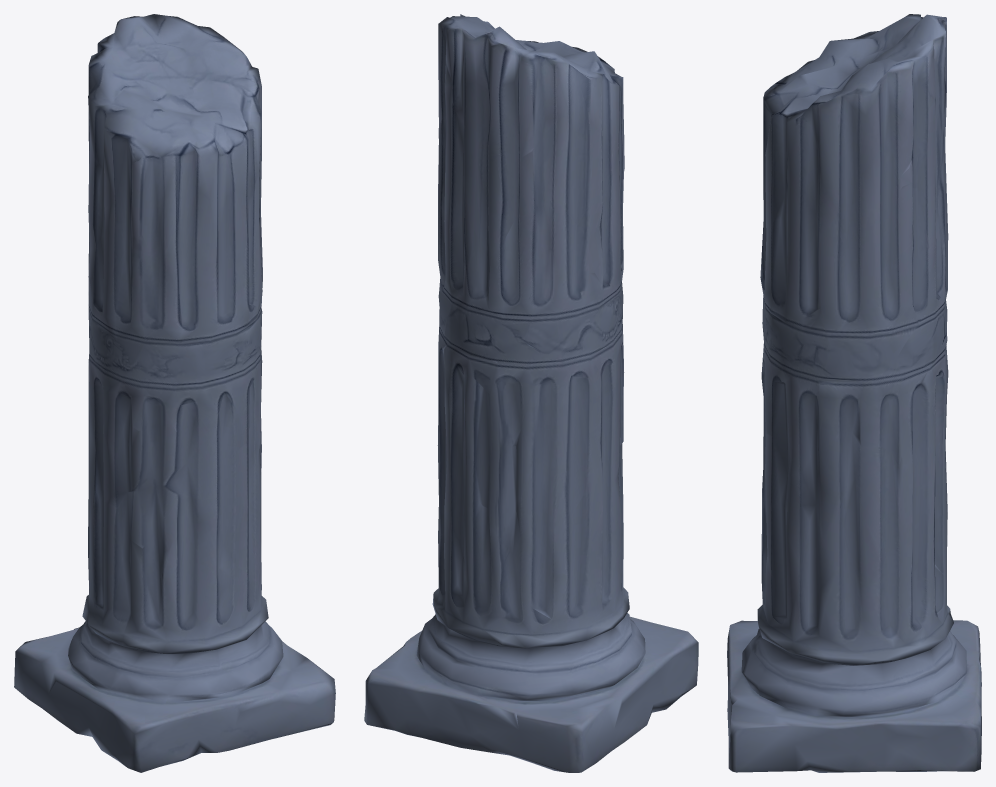
The model's file is arena_stump.glb.
The picture shows the model from 3 angles, left to right: view 1: azimuth 30°, elevation 25°; view 2: azimuth 150°, elevation 25°; view 3: azimuth 270°, elevation 25°; orthographic projection. The views are drawn at different scales.
Visible parts, largest first — view 1: tripo_node_aa50612b-2c0d-439d-a291-f596455cb120; view 2: tripo_node_aa50612b-2c0d-439d-a291-f596455cb120; view 3: tripo_node_aa50612b-2c0d-439d-a291-f596455cb120.
Part boxes in pixels (x1=…): tripo_node_aa50612b-2c0d-439d-a291-f596455cb120: x1=14, y1=14, x2=335, y2=772; tripo_node_aa50612b-2c0d-439d-a291-f596455cb120: x1=364, y1=14, x2=698, y2=772; tripo_node_aa50612b-2c0d-439d-a291-f596455cb120: x1=727, y1=14, x2=981, y2=772.
Size of the model in its own units: 0.3267 by 1 by 0.327.
1 material, 1 textured.
